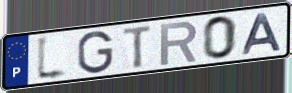0: (200, 15, 242, 62)
A: (241, 11, 284, 56)
G: (76, 29, 115, 75)
L: (35, 32, 71, 83)
R: (159, 19, 200, 67)
T: (121, 23, 154, 70)
